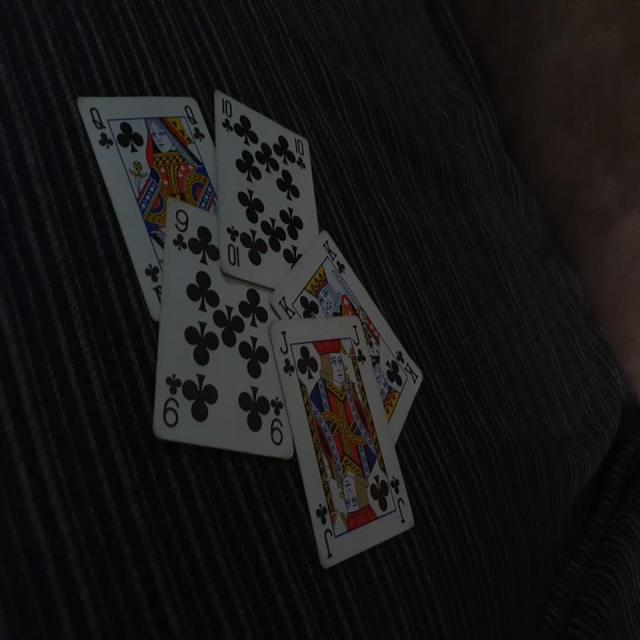10 Trefoils: (212, 87, 317, 293)
9 Trefoils: (146, 195, 294, 465)
J Trefoils: (269, 313, 416, 566)
K Trefoils: (266, 229, 421, 451)
Q Trefoils: (76, 91, 215, 322)
